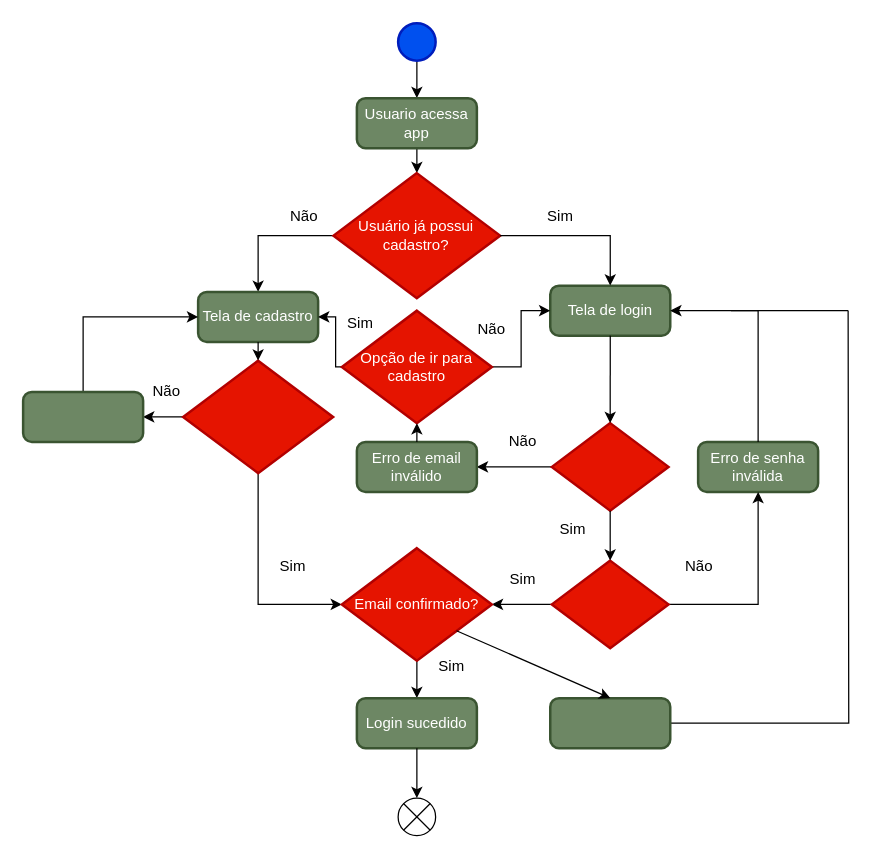
This 871x858 diagram has some shape labels left out. The shapes that lost their labels are listed below. From the top down, each one's centre as x and y in pixels, then its label:
At (x=82, y=416): "Erro".
At (x=257, y=416): "Informações fornecidas válidas?".
At (x=609, y=466): "Email válido?".
At (x=609, y=604): "Senha válida?".
At (x=609, y=722): "Erro de email não verificado".
